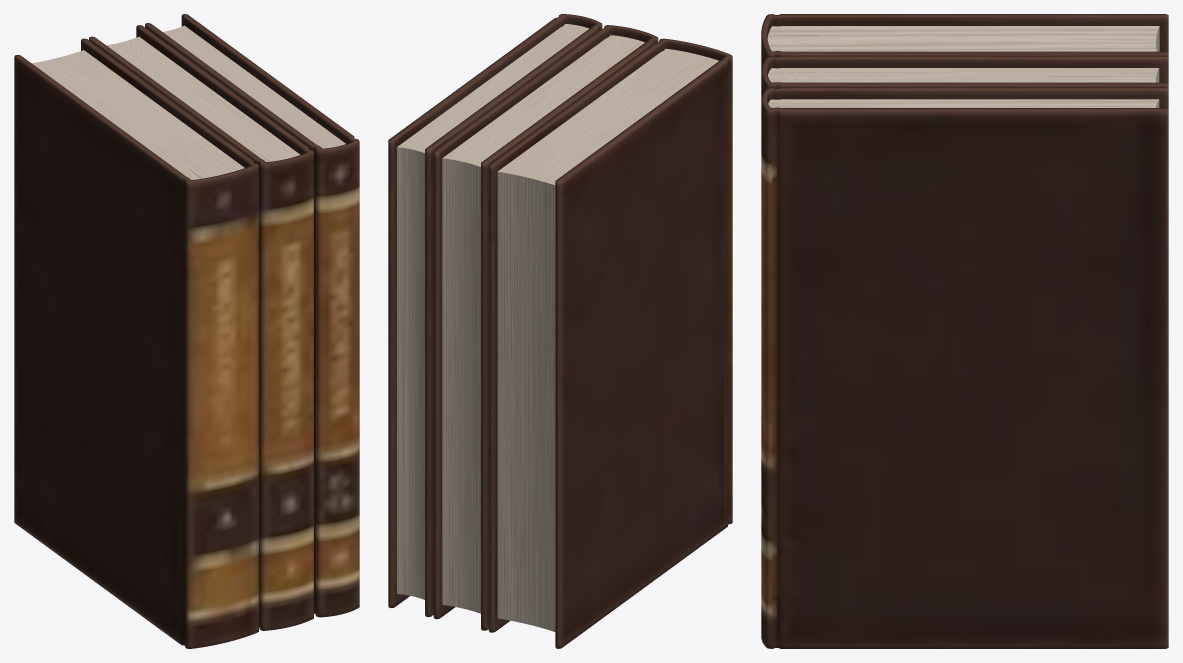
Rendered from books.glb.
The picture shows the model from 3 angles, left to right: view 1: azimuth 30°, elevation 25°; view 2: azimuth 150°, elevation 25°; view 3: azimuth 270°, elevation 25°; orthographic projection. The views are drawn at different scales.
Visible parts, largest first — view 1: book_encyclopedia_set_01_book01, book_encyclopedia_set_01_book02, book_encyclopedia_set_01_book03; view 2: book_encyclopedia_set_01_book01, book_encyclopedia_set_01_book02, book_encyclopedia_set_01_book03; view 3: book_encyclopedia_set_01_book03, book_encyclopedia_set_01_book01, book_encyclopedia_set_01_book02.
Part boxes in pixels (<box>): book_encyclopedia_set_01_book01: <box>14,38,258,648</box>; book_encyclopedia_set_01_book02: <box>89,25,313,630</box>; book_encyclopedia_set_01_book03: <box>145,14,359,617</box>; book_encyclopedia_set_01_book01: <box>488,38,732,648</box>; book_encyclopedia_set_01_book02: <box>433,25,658,630</box>; book_encyclopedia_set_01_book03: <box>388,14,602,616</box>; book_encyclopedia_set_01_book03: <box>761,87,1168,648</box>; book_encyclopedia_set_01_book01: <box>761,14,1168,67</box>; book_encyclopedia_set_01_book02: <box>761,56,1168,96</box>.
Bounding box in the file's own units: 0.0923 × 0.2374 × 0.1631.
Materials: 2 (2 with a texture image).
